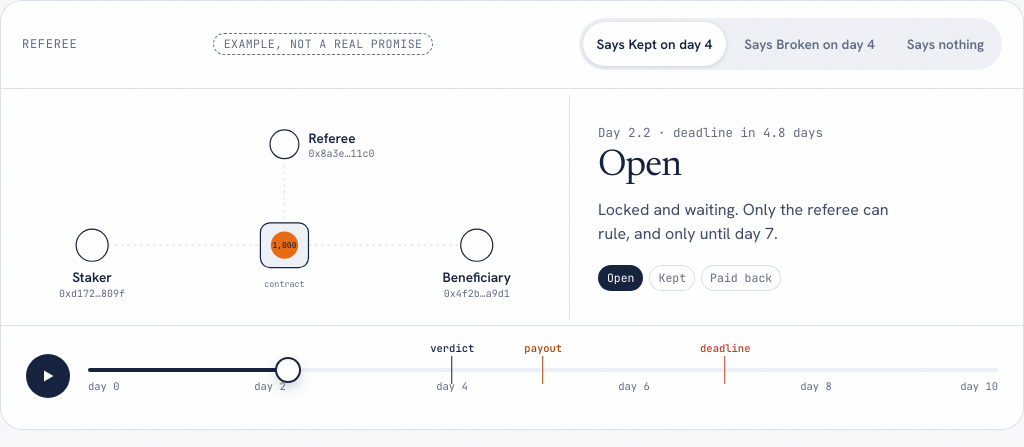
LLR-FE-040 the example clock is labelled as an example and can be played with › replays the same week under the scenario chosen
The image size is (1024, 447).
Click the button "Says Broken on day 4" at (810, 44), box 730,22 -> 889,66
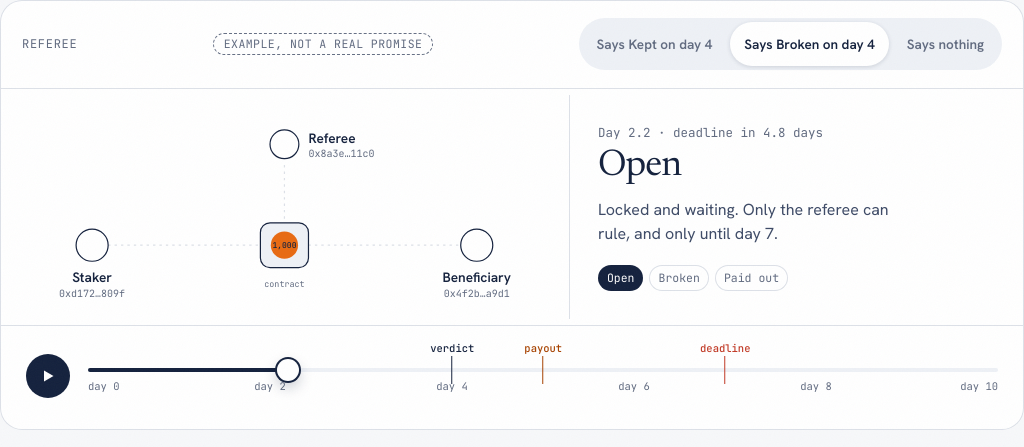
Press End in the slider named "Time", box 88,348 -> 998,404
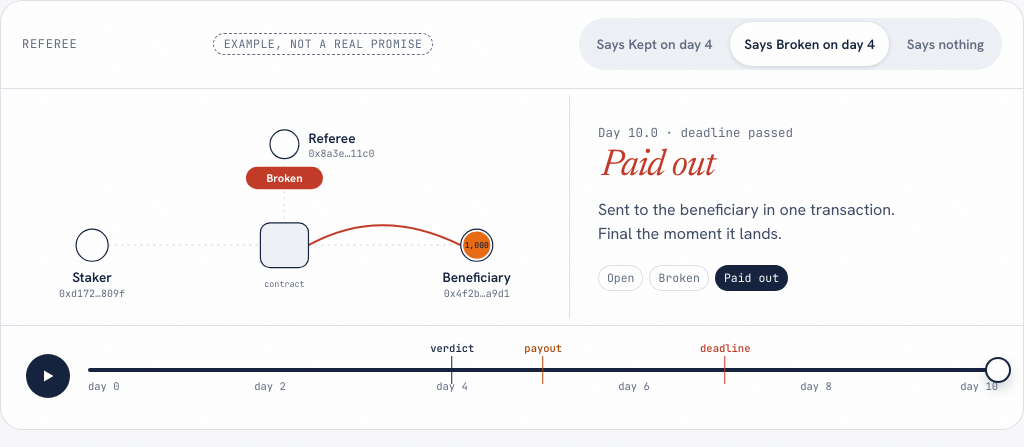
Check: the heading "Paid out" is shown, box 598,148 -> 996,186
Click the button "Says nothing" at (945, 44), box 893,22 -> 998,66
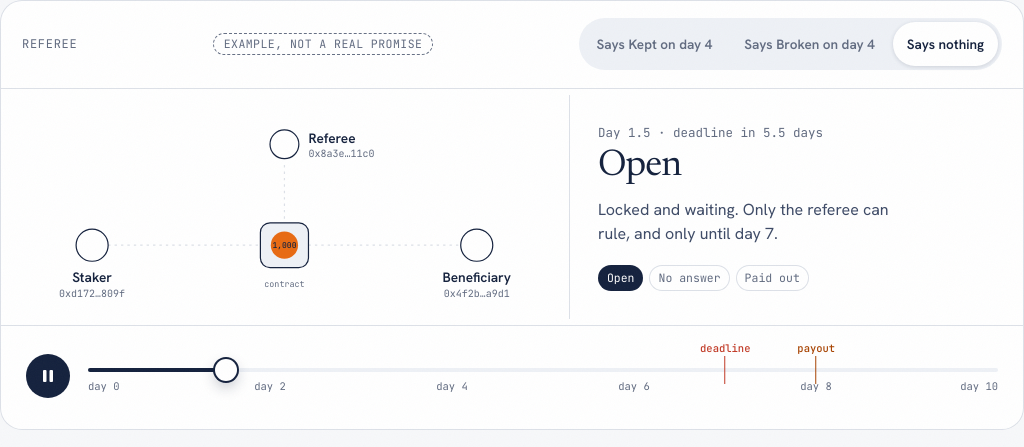
Check: the text "No answer" is shown, box 650,265 -> 730,291
